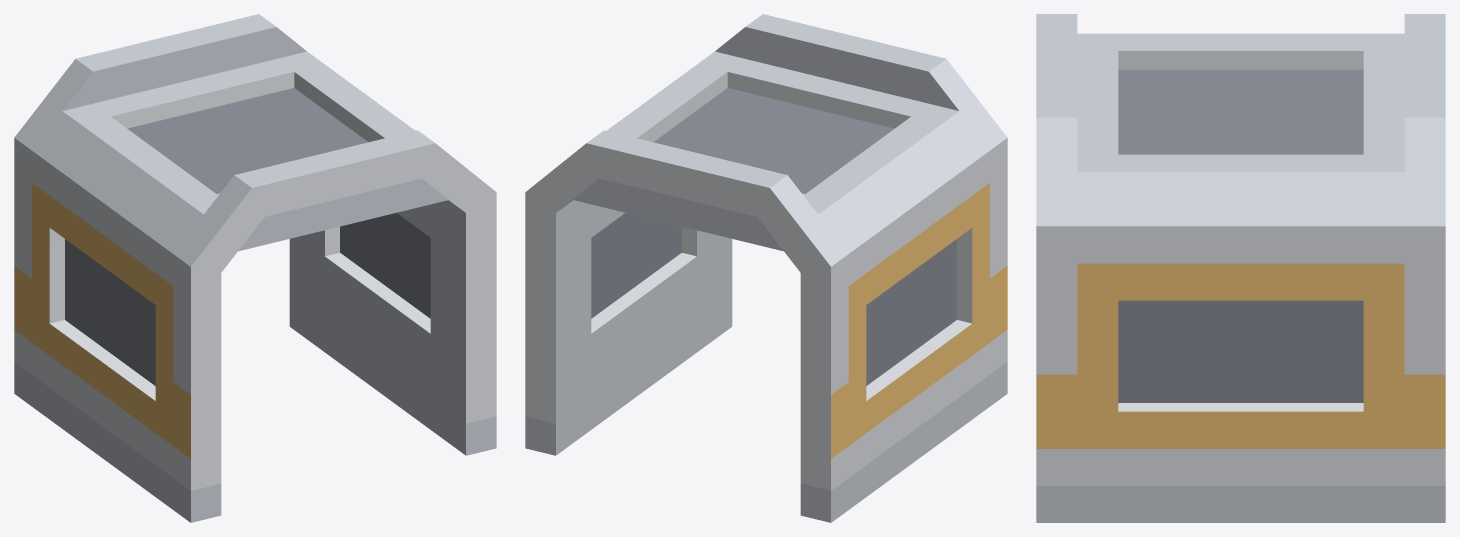
File: space_corridor_window_closed.glb
3 renders of one model, left to right at view 1: azimuth 30°, elevation 25°; view 2: azimuth 150°, elevation 25°; view 3: azimuth 270°, elevation 25°, orthographic. The views are drawn at different scales.
Visible parts, largest first — view 1: corridor_windowClosed; view 2: corridor_windowClosed; view 3: corridor_windowClosed.
Part boxes in pixels (<box>): corridor_windowClosed: <box>14,14,496,522</box>; corridor_windowClosed: <box>525,14,1007,522</box>; corridor_windowClosed: <box>1036,14,1445,522</box>.
Size of the model in its own units: 1 by 1 by 1.
